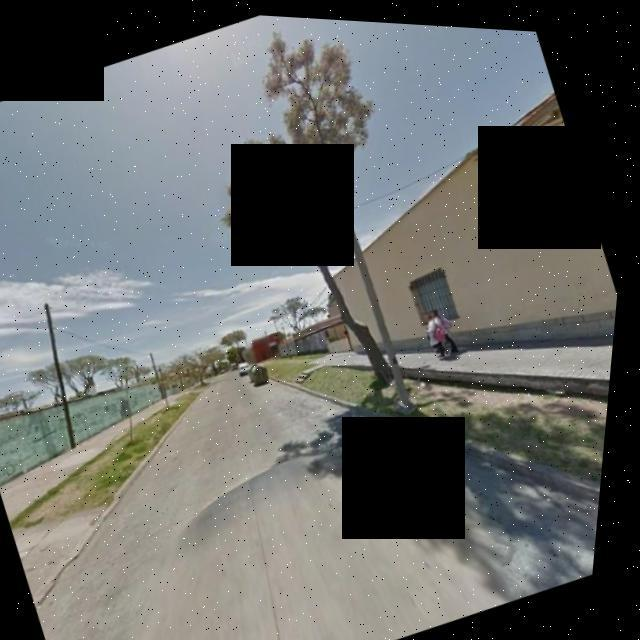bin: (244, 349, 289, 393)
